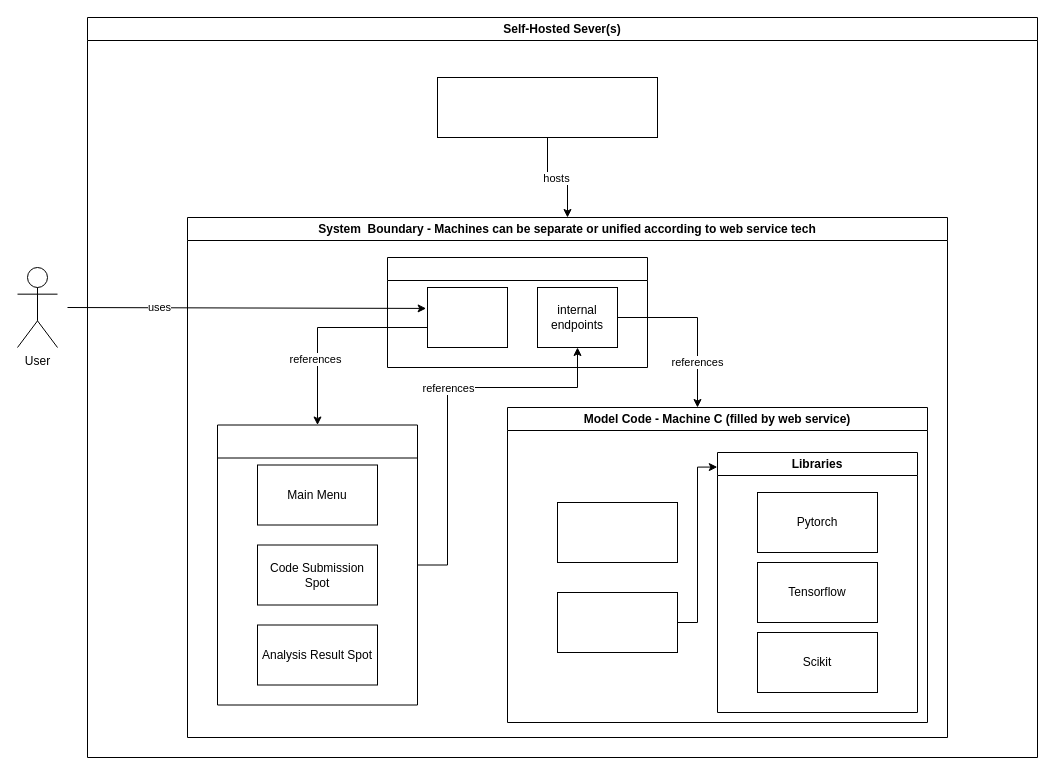
Some shapes in this 1055 by 775 pixel diagram are drawn without their labels. The box of each missing label's shape, as (x1, y1, x2, y2) in pixels:
API code - Machine A (filled by web service): (386, 256, 648, 368)
Azure/AWS/other web service technology that is self-hosted: (436, 76, 658, 138)
Code Parser: (556, 502, 678, 562)
external endpoints: (426, 286, 508, 348)
NLP layers/components: (556, 592, 678, 652)
UI code - Machine B (filled by web service): (216, 424, 418, 705)
